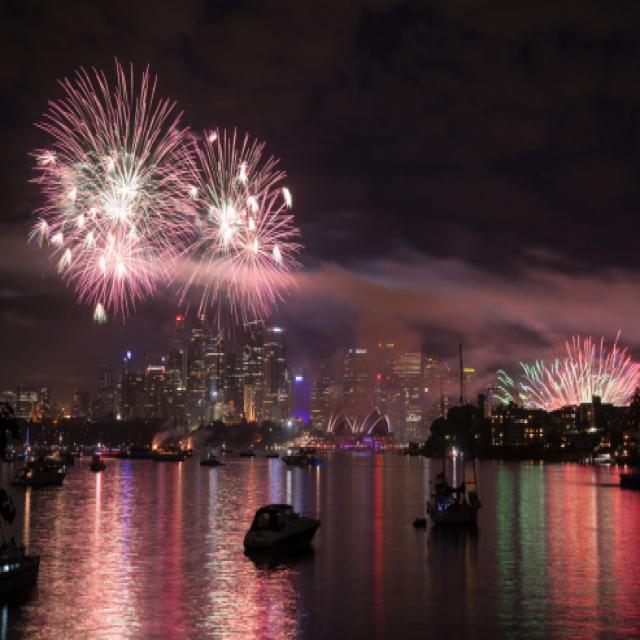Boat: (401, 429, 496, 547), (243, 489, 321, 584), (0, 519, 39, 630), (3, 446, 71, 493), (267, 438, 326, 475), (198, 447, 228, 481)
